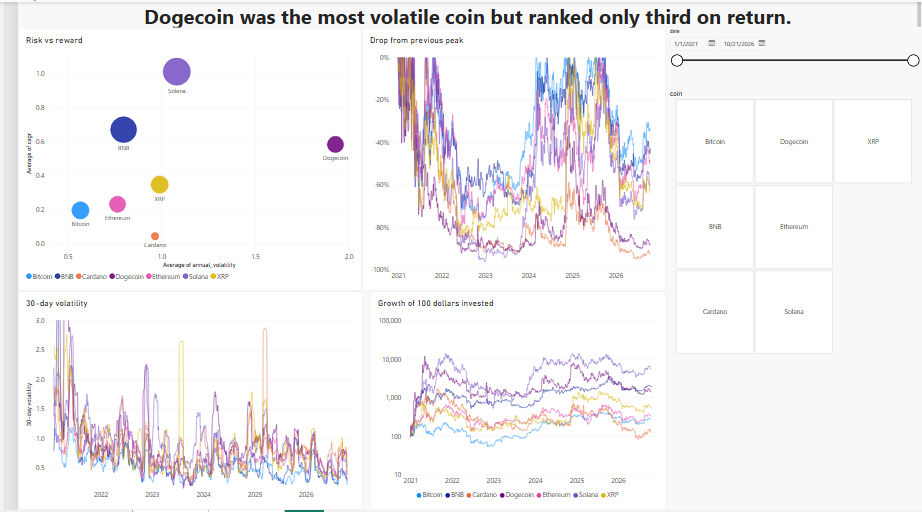

This screenshot's page, from the dashboard's own definition file:
{"tool":"powerbi","page":{"name":"Page 1","canvas":[1920,1080],"ordinal":0},"visuals":[{"type":"slicer","fields":{"Values":["coins.coin"]},"box":[1377.6,187.1,542.1,563.4],"z":0},{"type":"slicer","fields":{"Values":["daily_metrics.date"]},"box":[1377.6,55.3,542.1,131.8],"z":1000},{"type":"lineChart","title":"Growth of 100 dollars invested","fields":{"Category":["daily_metrics.date"],"Series":["coins.coin"],"Y":["Avg(daily_metrics.growth_100)"]},"box":[747.5,615,631.4,465.6],"z":2000},{"type":"lineChart","title":"Drop from previous peak","fields":{"Category":["daily_metrics.date"],"Series":["coins.coin"],"Y":["Min(daily_metrics.drawdown)"]},"box":[731.3,55.3,646.3,559.1],"z":3000},{"type":"lineChart","title":"30-day volatility","fields":{"Category":["rolling_vol.date"],"Series":["coins.coin"],"Y":["Avg(rolling_vol.vol_30d)"]},"box":[0,615,732.5,465],"z":4000},{"type":"scatterChart","title":"Risk vs reward","fields":{"Series":["coins.coin"],"Size":["Sum(summary_final.sharpe_cagr)"],"X":["Avg(summary_final.annual_volatility)"],"Y":["Avg(summary_final.cagr)"]},"box":[0,55.3,731.3,559.1],"z":5000},{"type":"textbox","box":[0,0,1919.8,55.3],"z":6000}]}

Visuals, with their boxes in screenshot pixels (x1, y1, x2, y2), scaled from the page's 1920x1080 canvas onto the 922x512 screenshot:
slicer - coins.coin: {"left": 662, "top": 89, "right": 921, "bottom": 356}
slicer - daily_metrics.date: {"left": 662, "top": 26, "right": 921, "bottom": 89}
"Growth of 100 dollars invested" lineChart: {"left": 359, "top": 292, "right": 662, "bottom": 511}
"Drop from previous peak" lineChart: {"left": 351, "top": 26, "right": 662, "bottom": 291}
"30-day volatility" lineChart: {"left": 0, "top": 292, "right": 352, "bottom": 511}
"Risk vs reward" scatterChart: {"left": 0, "top": 26, "right": 351, "bottom": 291}
textbox: {"left": 0, "top": 0, "right": 921, "bottom": 26}
